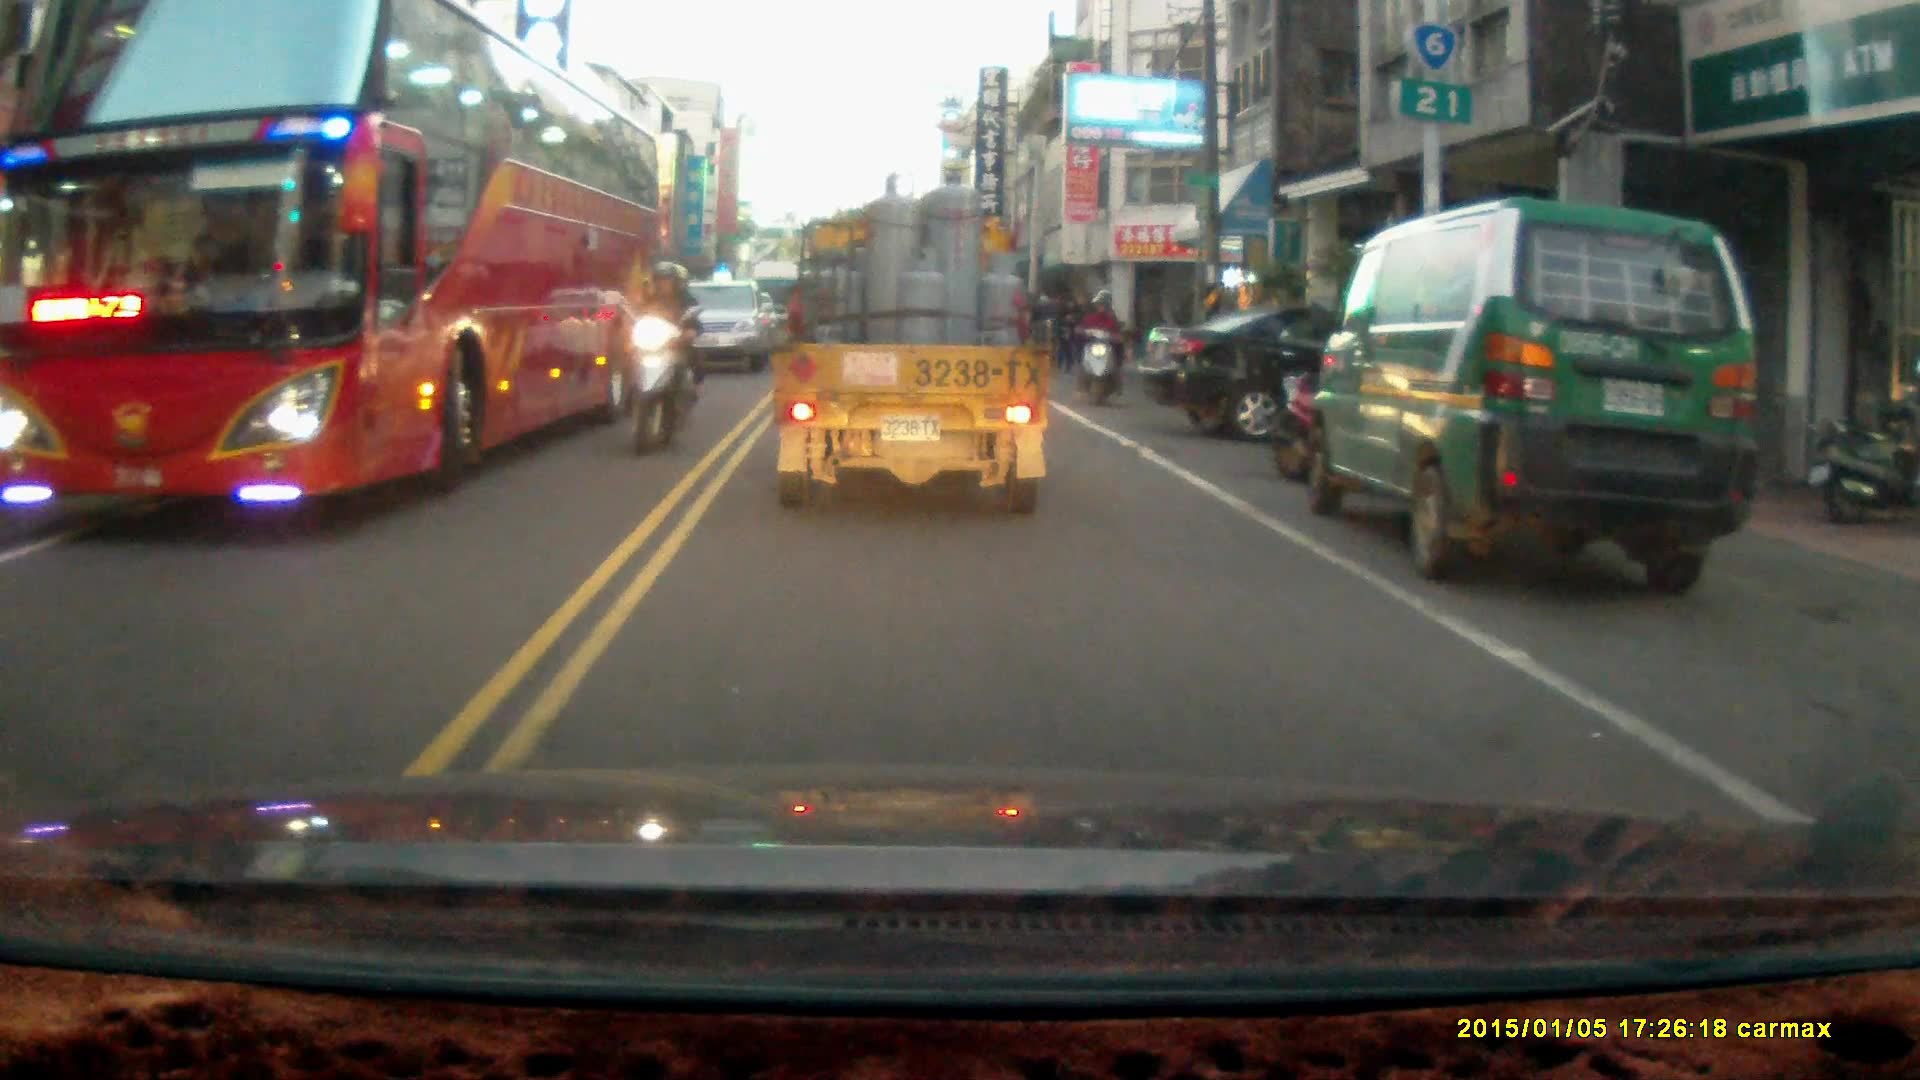rider: (619, 257, 701, 451), (1071, 286, 1126, 405)
vehicle: (6, 12, 658, 532), (1308, 191, 1760, 592), (770, 164, 1056, 517), (1150, 299, 1377, 444), (671, 277, 780, 378)
